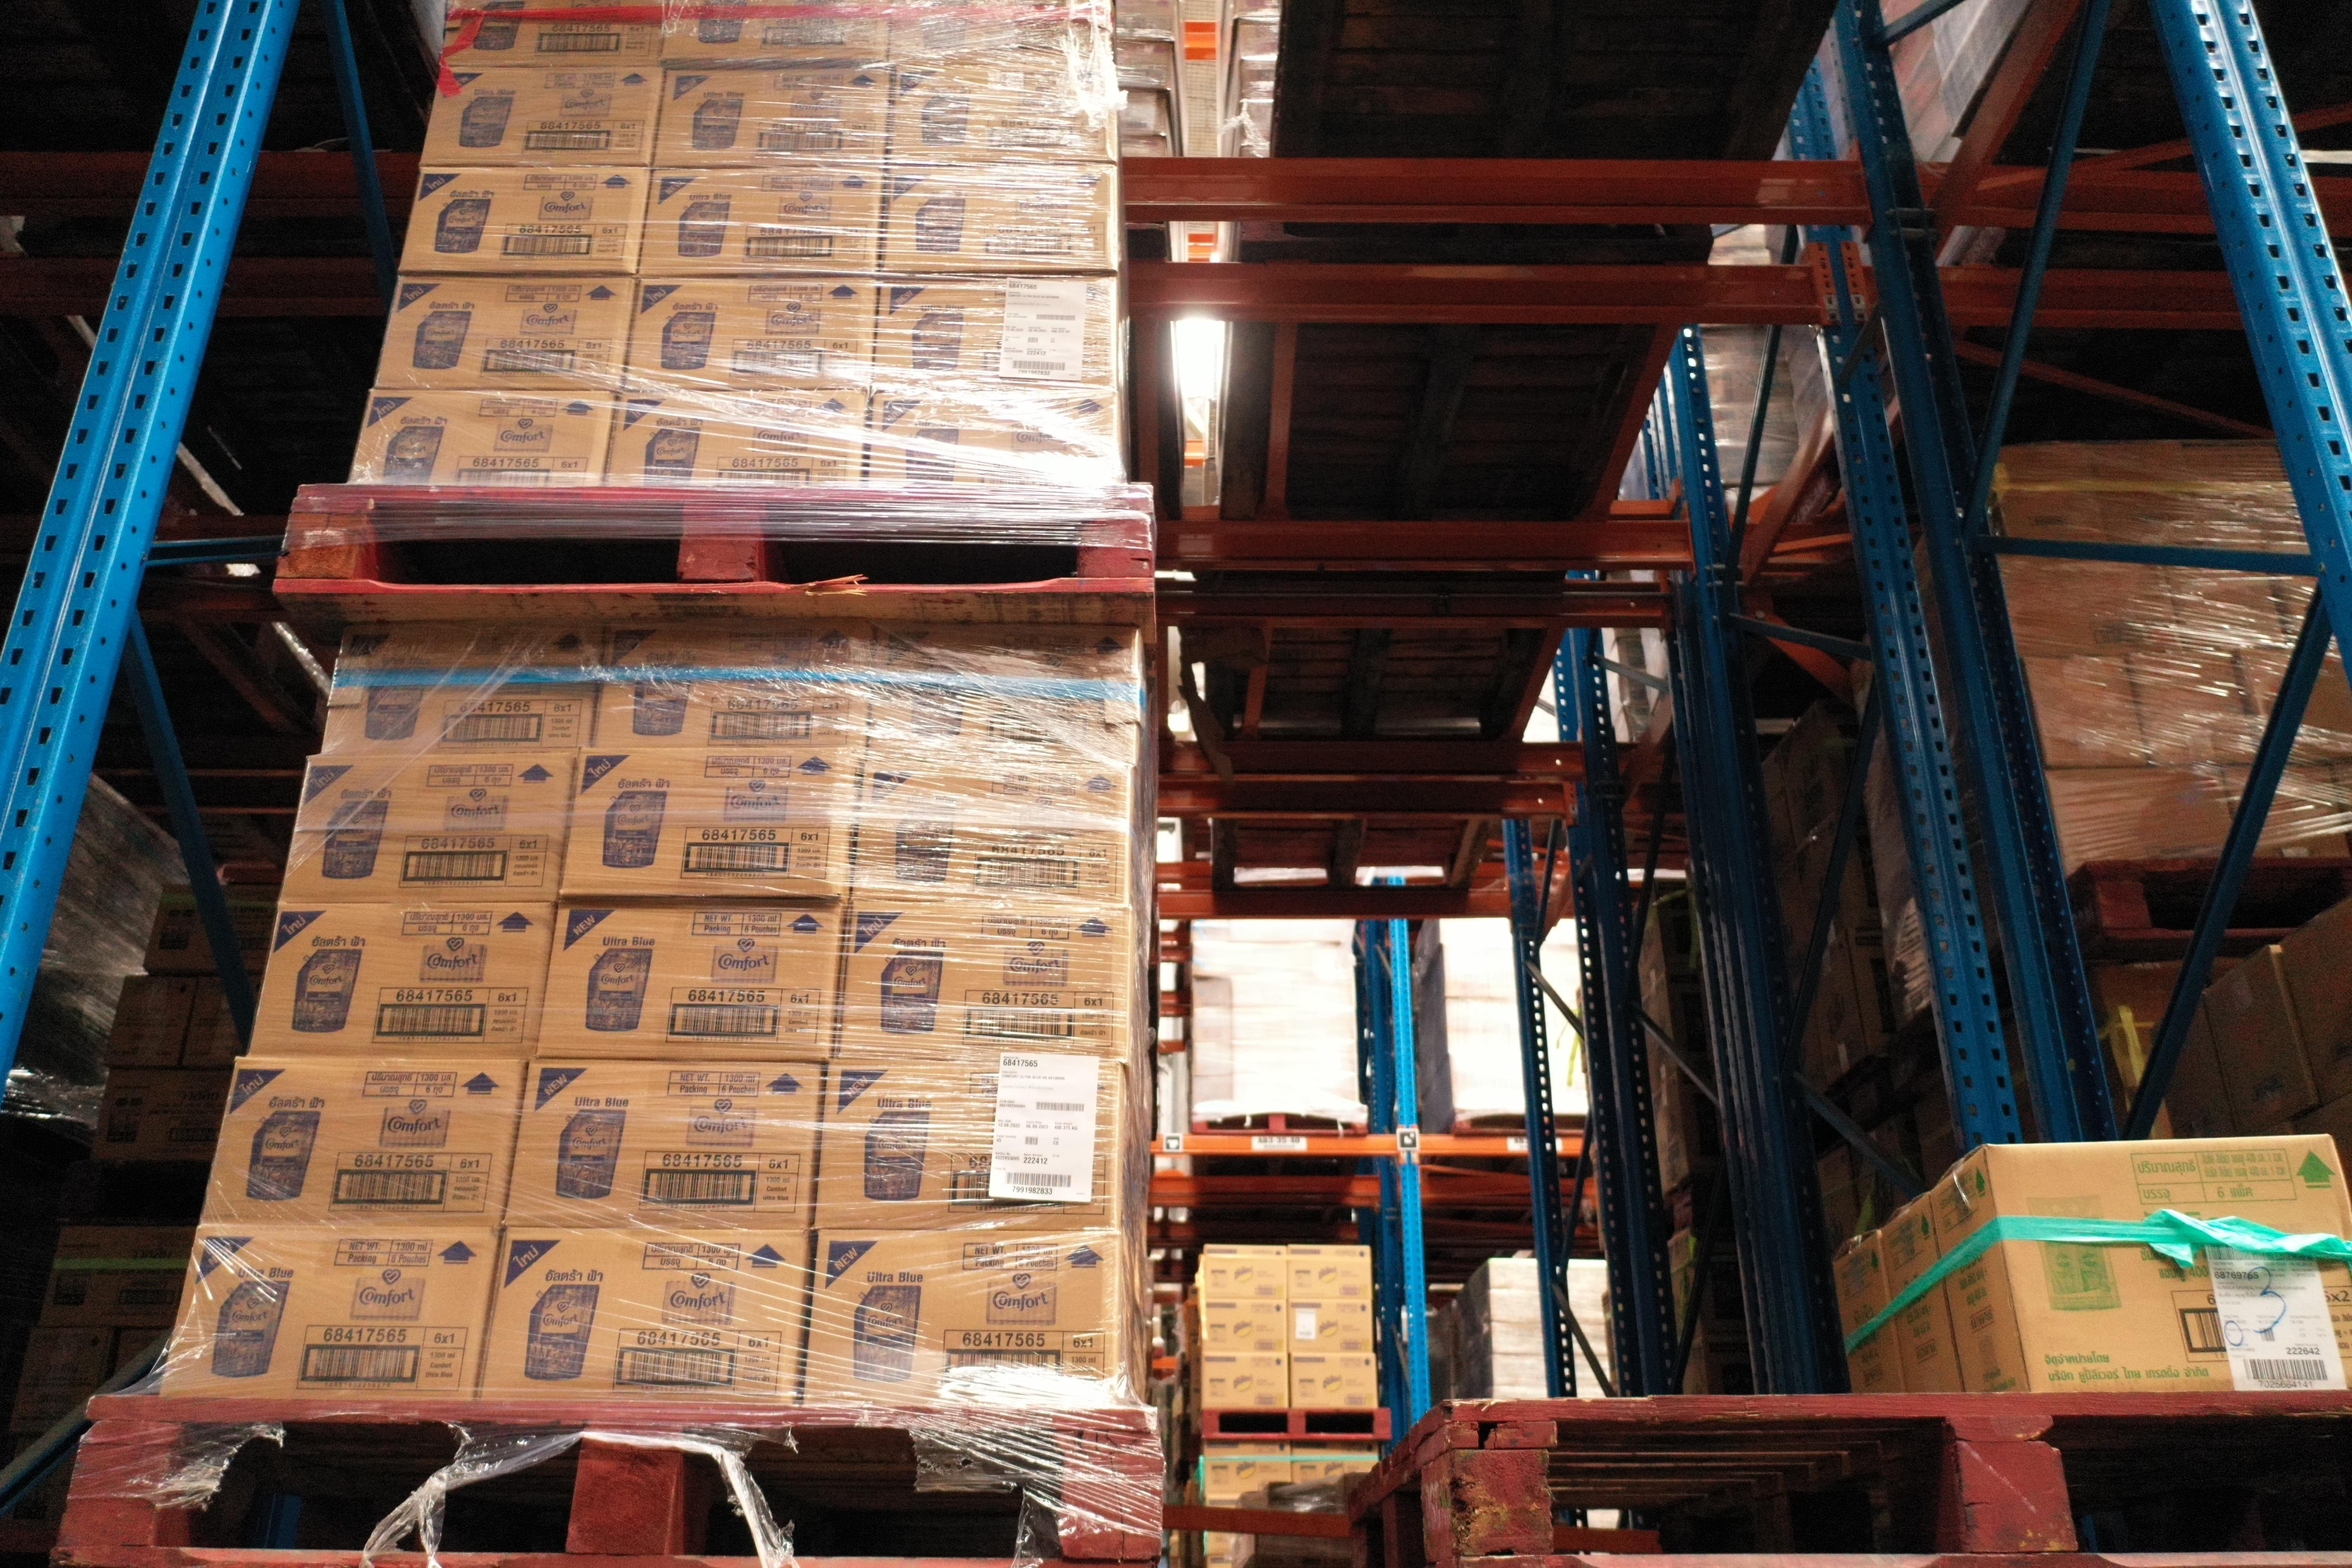-: (1984, 1130, 2352, 1402), (161, 1225, 499, 1410), (478, 1227, 807, 1410), (500, 1057, 821, 1242), (801, 1227, 1127, 1402), (198, 1057, 520, 1228), (833, 896, 1134, 1074), (814, 1059, 1122, 1232), (525, 901, 849, 1066), (247, 901, 556, 1062), (847, 745, 1137, 915), (558, 745, 861, 901), (278, 751, 577, 905), (864, 621, 1139, 765), (318, 621, 609, 756), (588, 623, 875, 749), (374, 273, 637, 390), (618, 278, 878, 392), (870, 273, 1118, 390), (864, 385, 1122, 493), (395, 164, 647, 275), (346, 387, 611, 492), (605, 387, 870, 492), (639, 168, 884, 278), (880, 164, 1116, 276), (653, 66, 889, 170), (420, 65, 663, 164), (887, 65, 1115, 164)
box: (2040, 758, 2235, 877), (1993, 537, 2184, 651), (2021, 649, 2144, 772), (2128, 649, 2259, 761), (2161, 537, 2289, 649), (1990, 439, 2117, 544), (2219, 756, 2345, 854), (2093, 439, 2210, 544), (2179, 446, 2308, 541), (2243, 651, 2352, 759)
